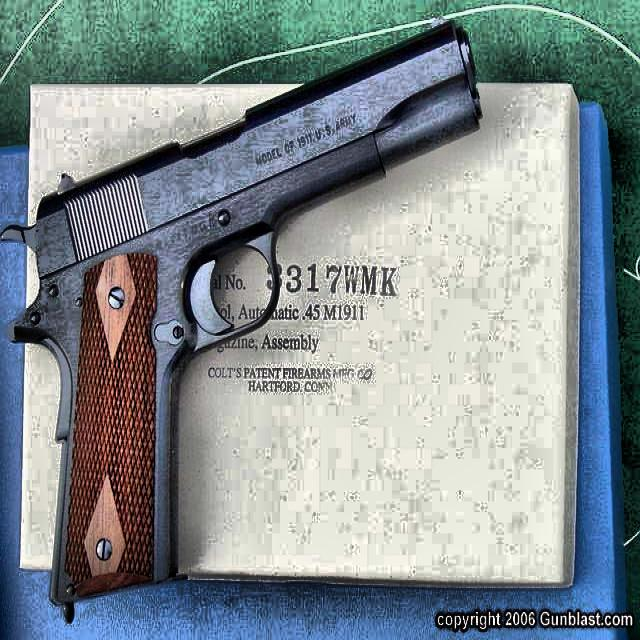Colt m1911: (1, 16, 484, 621)
